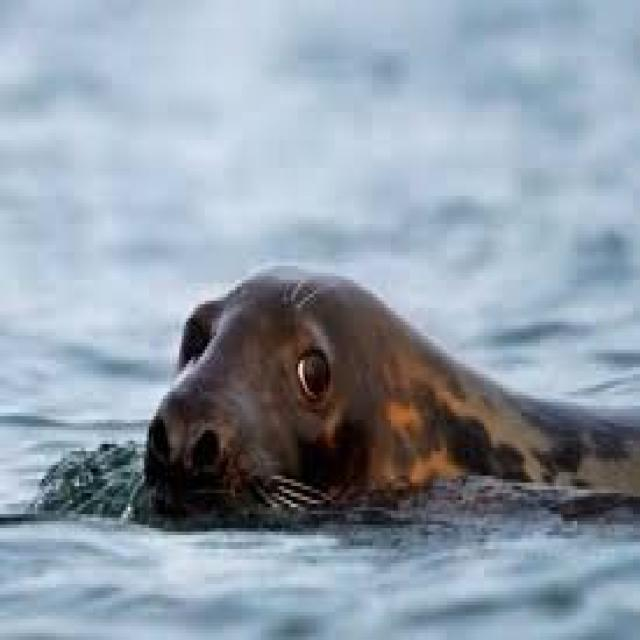seal: (144, 266, 638, 504)
